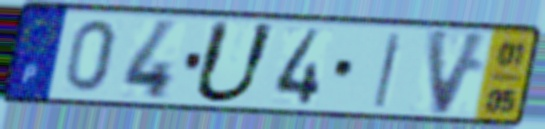0: (62, 16, 120, 96)
4: (119, 18, 182, 102), (270, 24, 324, 108)
I: (370, 29, 407, 111)
U: (188, 18, 281, 107)
V: (424, 26, 494, 119)
